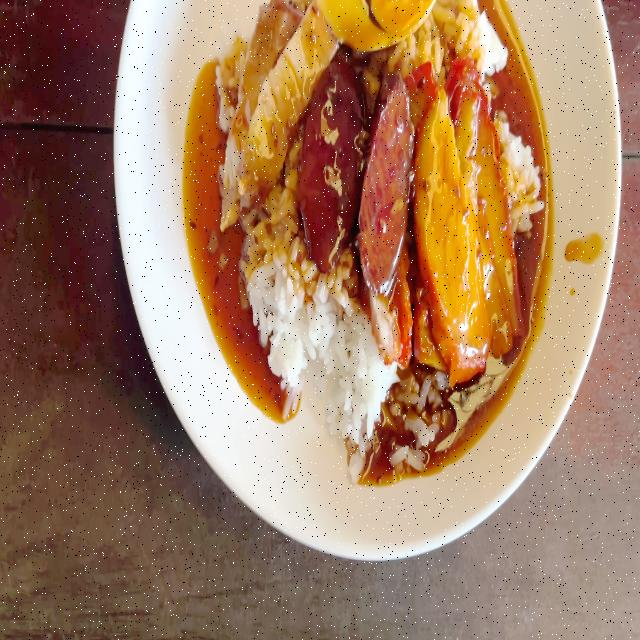boiled_egg: (320, 0, 431, 46)
chainese_sausage: (303, 56, 414, 276)
crispy_pork: (220, 0, 323, 208)
red_pork: (419, 76, 513, 352)
red_pork_and_crispy_pork: (218, 0, 544, 446)
rice: (237, 205, 315, 386), (325, 285, 375, 442)
